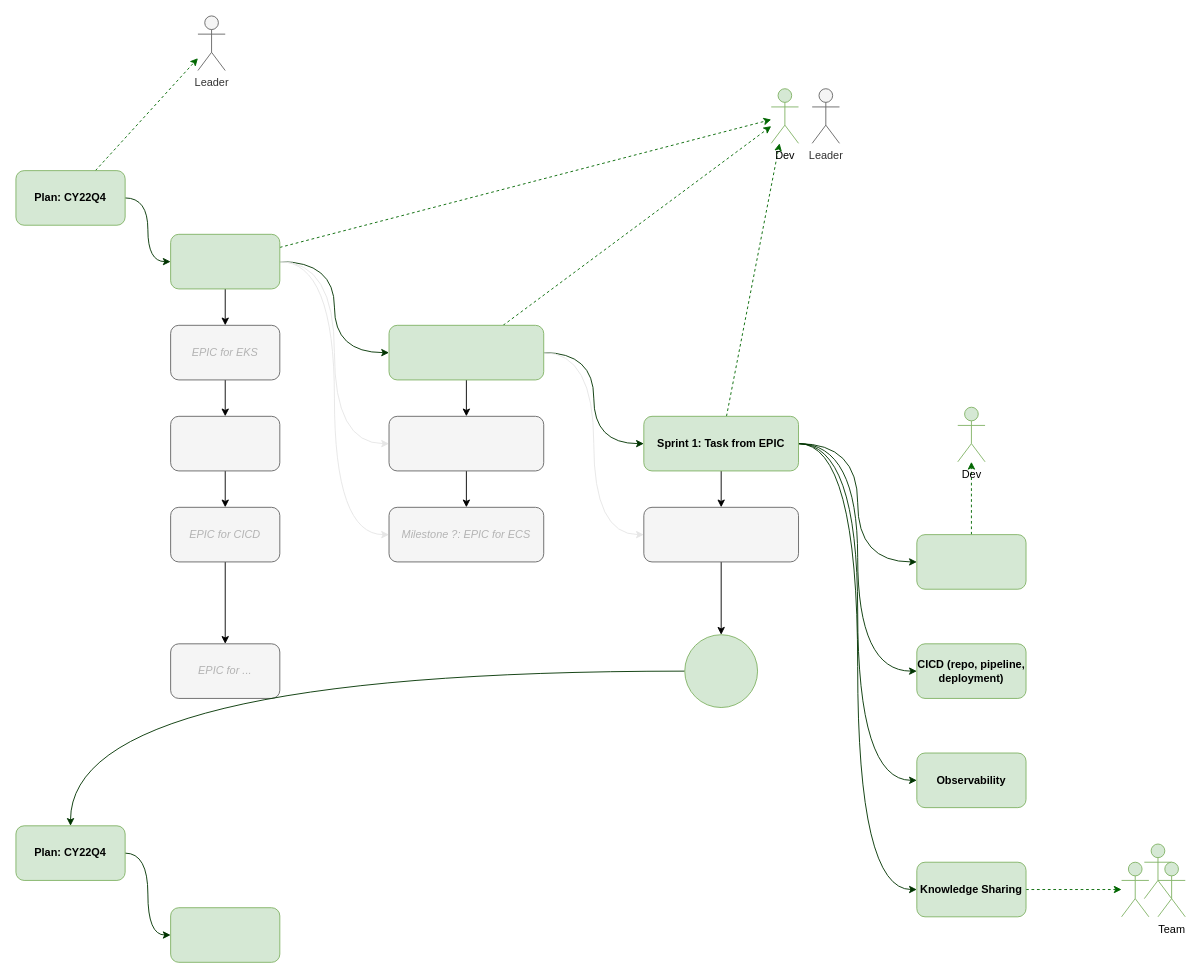
This 1201x978 diagram has some shape labels left out. The shapes that lost their labels are listed below. From the top down, each one's box as (x1, y1, x2, y2) in pixels, then its label:
(170, 233, 280, 289): EPIC for ECS
(388, 324, 544, 380): Milestone 1: EPIC for ECS
(170, 415, 280, 471): EPIC for Kafka
(388, 415, 544, 471): Milestone 2: EPIC for ECS
(643, 506, 799, 562): Sprint ?:Task from EPIC
(916, 534, 1026, 589): Demo vs Credit
(684, 634, 758, 708): Done
(170, 907, 280, 962): EPIC by Tools, Services
